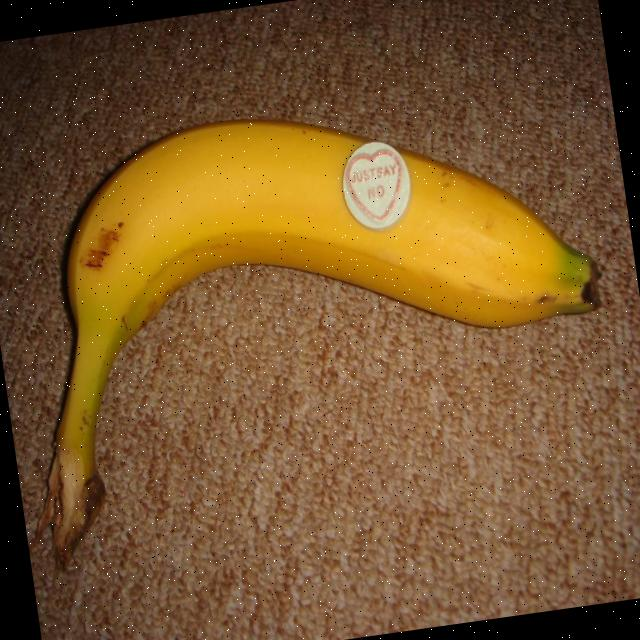banana: (48, 121, 597, 566)
